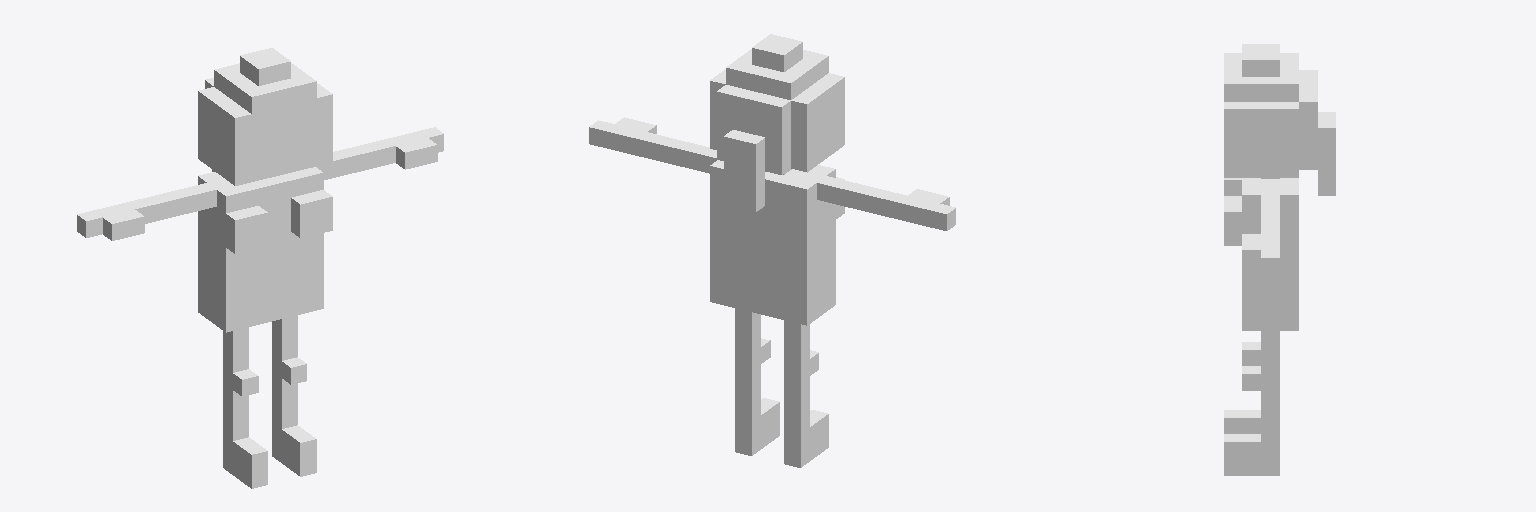
File: female.obj
The picture shows the model from 3 angles: view 1: azimuth 30°, elevation 25°; view 2: azimuth 150°, elevation 25°; view 3: azimuth 270°, elevation 25°; orthographic projection.
Parts seen in each view (by area): view 1: object 1; view 2: object 1; view 3: object 1.
Boxes of the visible parts, x1=… form: object 1: x1=77, y1=48, x2=443, y2=488; object 1: x1=589, y1=34, x2=955, y2=467; object 1: x1=1224, y1=44, x2=1335, y2=475.
Bounding box in the file's own units: 2.2 × 2.4 × 0.6.